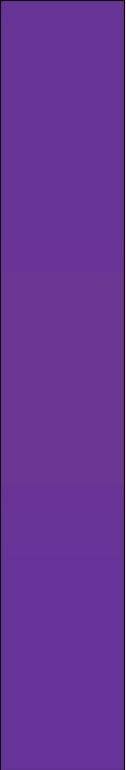safe: (13, 14, 114, 760)
